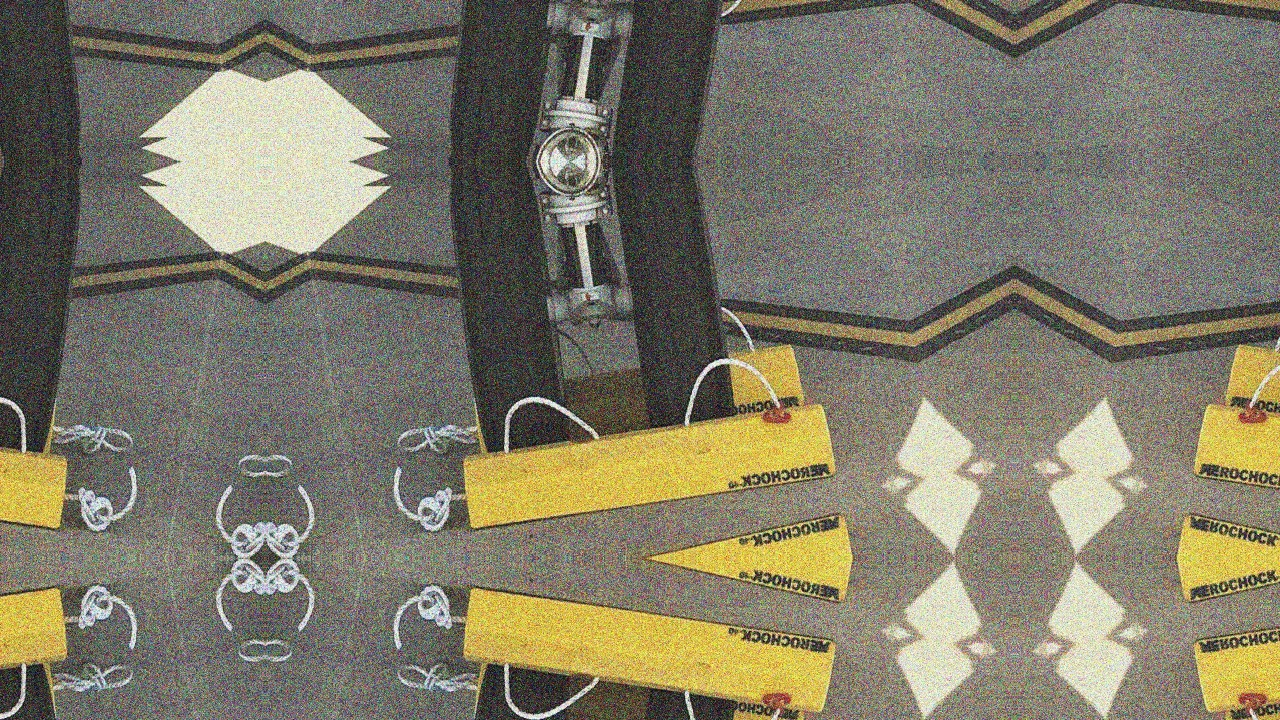chock: (455, 387, 842, 545), (455, 572, 842, 720), (463, 333, 808, 467), (463, 650, 808, 720), (1188, 387, 1280, 545), (1188, 572, 1280, 720), (0, 387, 75, 545), (0, 572, 75, 720), (0, 333, 67, 467), (1222, 333, 1280, 467), (0, 650, 67, 720)
wheel: (434, 162, 582, 456), (602, 161, 745, 433), (0, 162, 96, 456), (434, 0, 582, 162), (602, 0, 745, 162), (0, 0, 96, 162), (434, 661, 582, 720), (0, 661, 96, 720), (602, 684, 745, 720)
